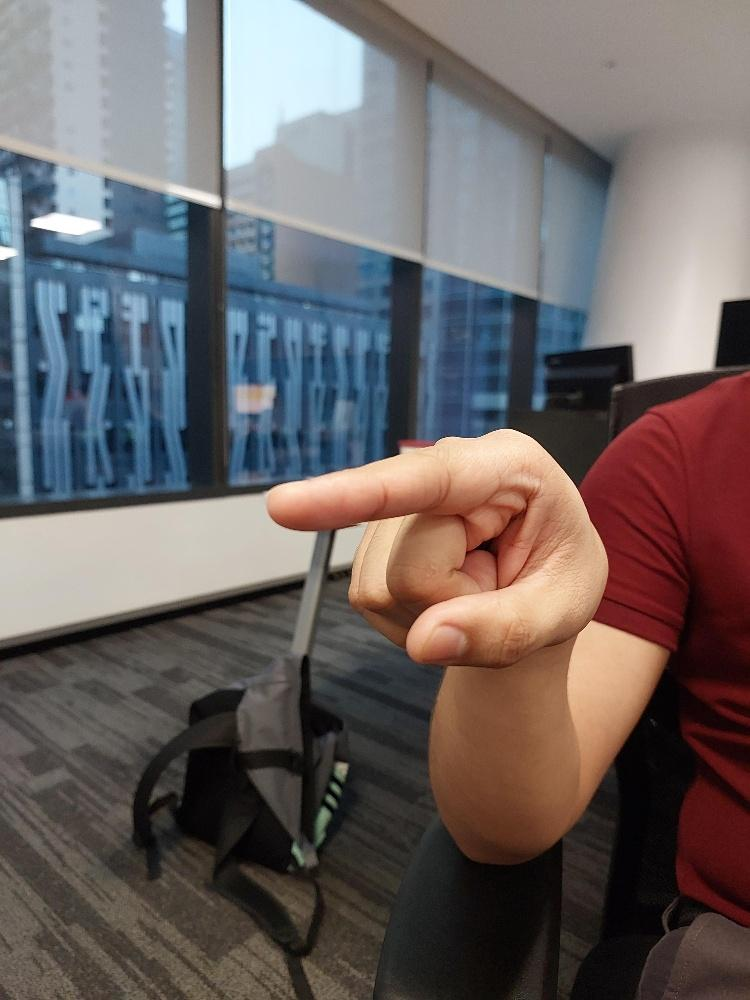z: (261, 420, 610, 671)
